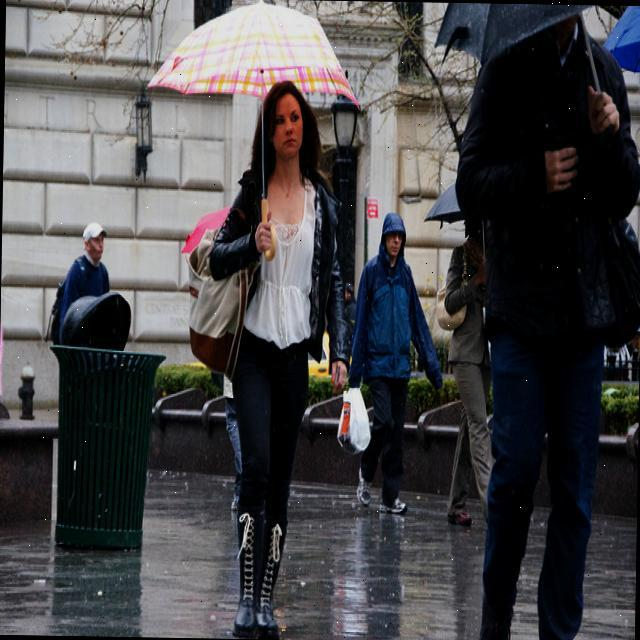fire_hydrant: (16, 360, 35, 420)
